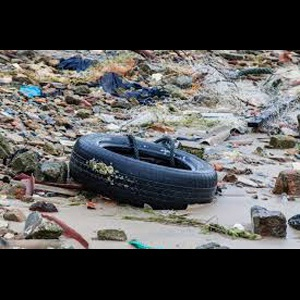tire: (70, 132, 218, 210)
